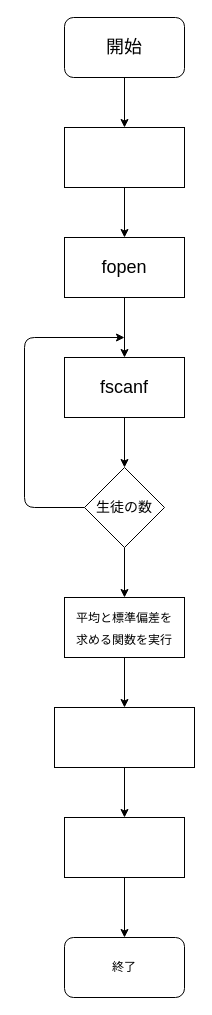
Some shapes in this 212 by 1015 pixel diagram are drawn without their labels. The centre of each missing label's shape, as x and y in pixels:
"free" belongs at pixel 124 847.
"初期化" belongs at pixel 124 157.
"数字，平均， 標準偏差を表示" belongs at pixel 124 737.
